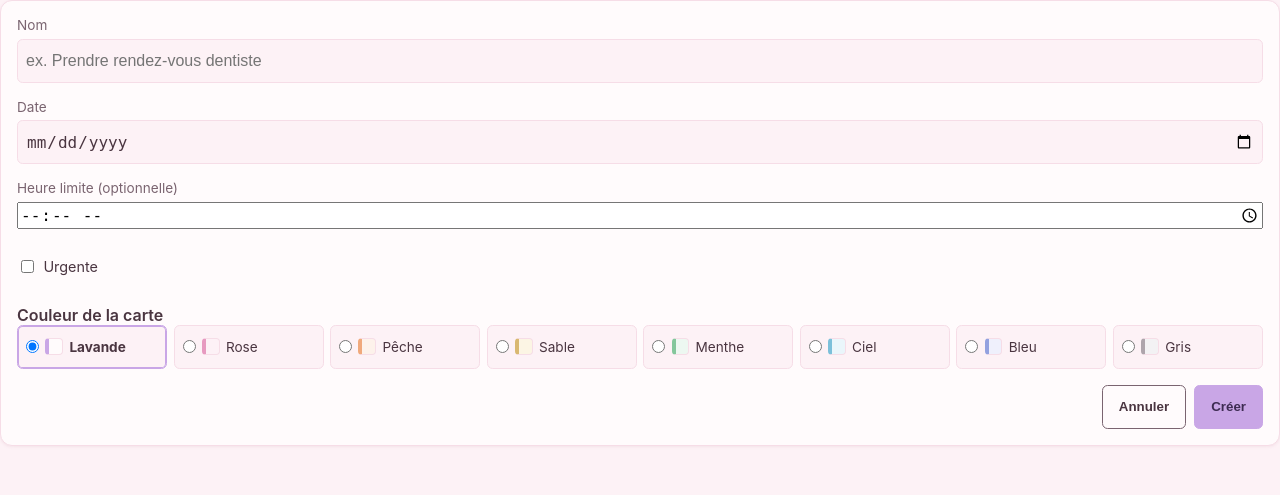
Scenario: TaskForm (US-002) › bloque la création et signale la date manquante (scénario 3)
Type "Dentiste" into the field labelled "Nom" at [640, 61], box [17, 39, 1263, 83]
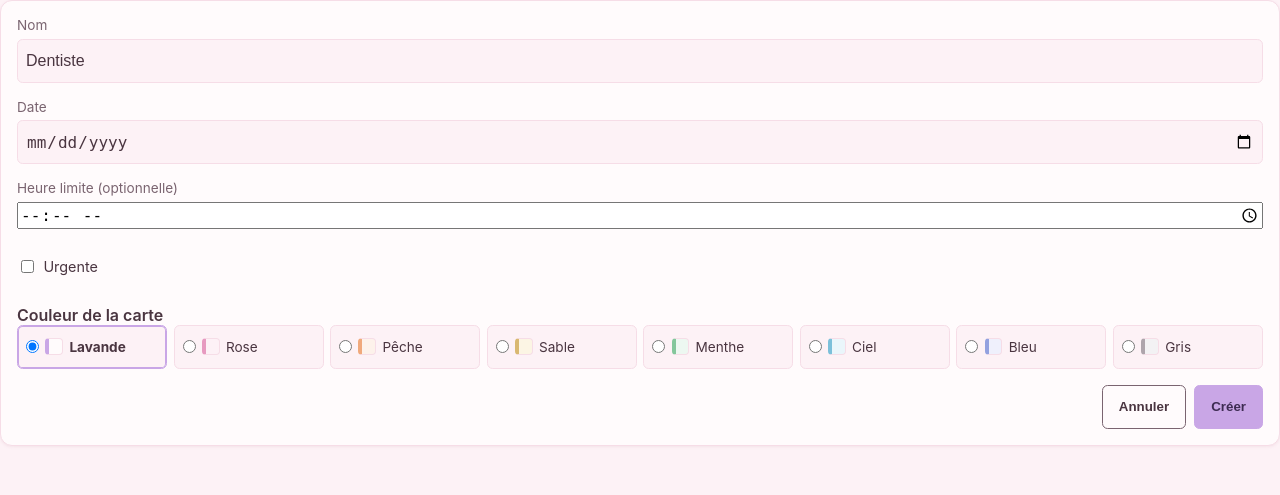
Click the button "Créer" at [1229, 407], box [1194, 385, 1263, 429]
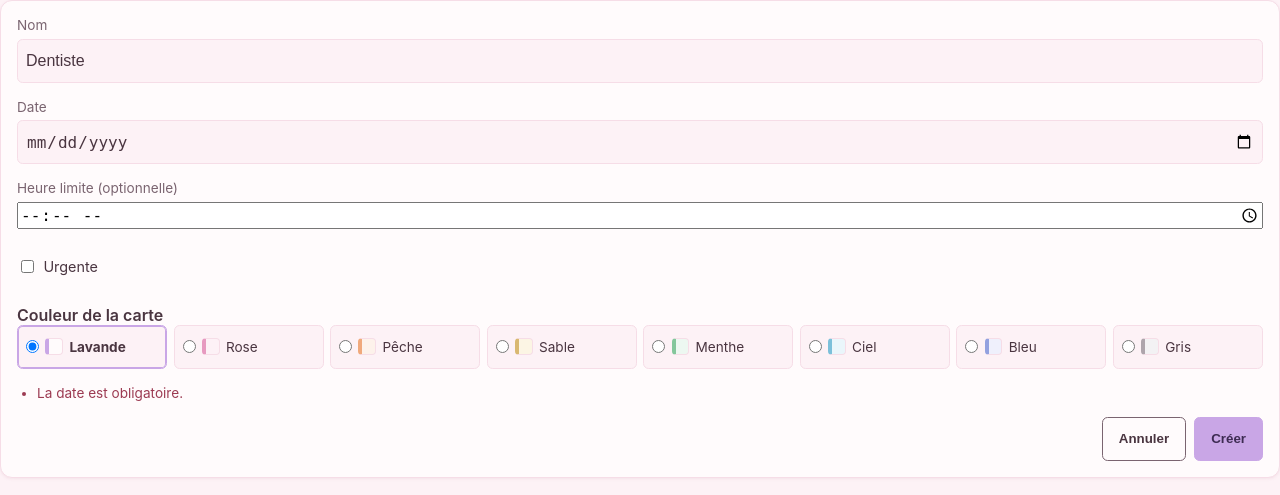
Expected: the message reads "La date est obligatoire.", [37, 385, 183, 401]
